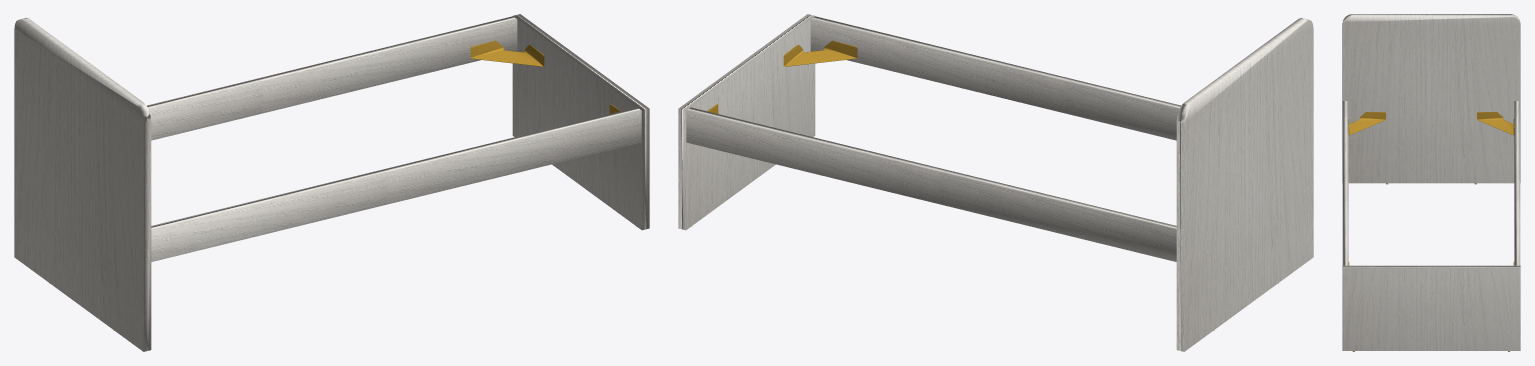
Rendered from ie104y3k5uuj.gltf.
The picture shows the model from 3 angles, left to right: view 1: azimuth 30°, elevation 25°; view 2: azimuth 150°, elevation 25°; view 3: azimuth 270°, elevation 25°; orthographic projection. The views are drawn at different scales.
Visible parts, largest first — view 1: 3DSMesh_0, 3DSMesh_6, 3DSMesh_3, 3DSMesh_7, 3DSMesh_11; view 2: 3DSMesh_0, 3DSMesh_7, 3DSMesh_3, 3DSMesh_6, 3DSMesh_10; view 3: 3DSMesh_0, 3DSMesh_3, 3DSMesh_6, 3DSMesh_7, 3DSMesh_8, 3DSMesh_9.
Part boxes in pixels (x1,y1,x2,y2): 3DSMesh_0: [14, 18, 151, 351]; 3DSMesh_6: [151, 107, 641, 261]; 3DSMesh_3: [512, 14, 649, 230]; 3DSMesh_7: [147, 16, 517, 140]; 3DSMesh_11: [470, 40, 544, 66]; 3DSMesh_0: [1176, 18, 1313, 351]; 3DSMesh_7: [686, 107, 1176, 261]; 3DSMesh_3: [678, 14, 815, 230]; 3DSMesh_6: [810, 16, 1180, 140]; 3DSMesh_10: [783, 40, 857, 66]; 3DSMesh_0: [1342, 14, 1520, 183]; 3DSMesh_3: [1342, 265, 1520, 350]; 3DSMesh_6: [1342, 101, 1348, 265]; 3DSMesh_7: [1514, 101, 1520, 265]; 3DSMesh_8: [1348, 112, 1385, 135]; 3DSMesh_9: [1477, 112, 1514, 135].
Size of the model in its own units: 1990 by 920 by 880.
2 materials, 2 textured.
